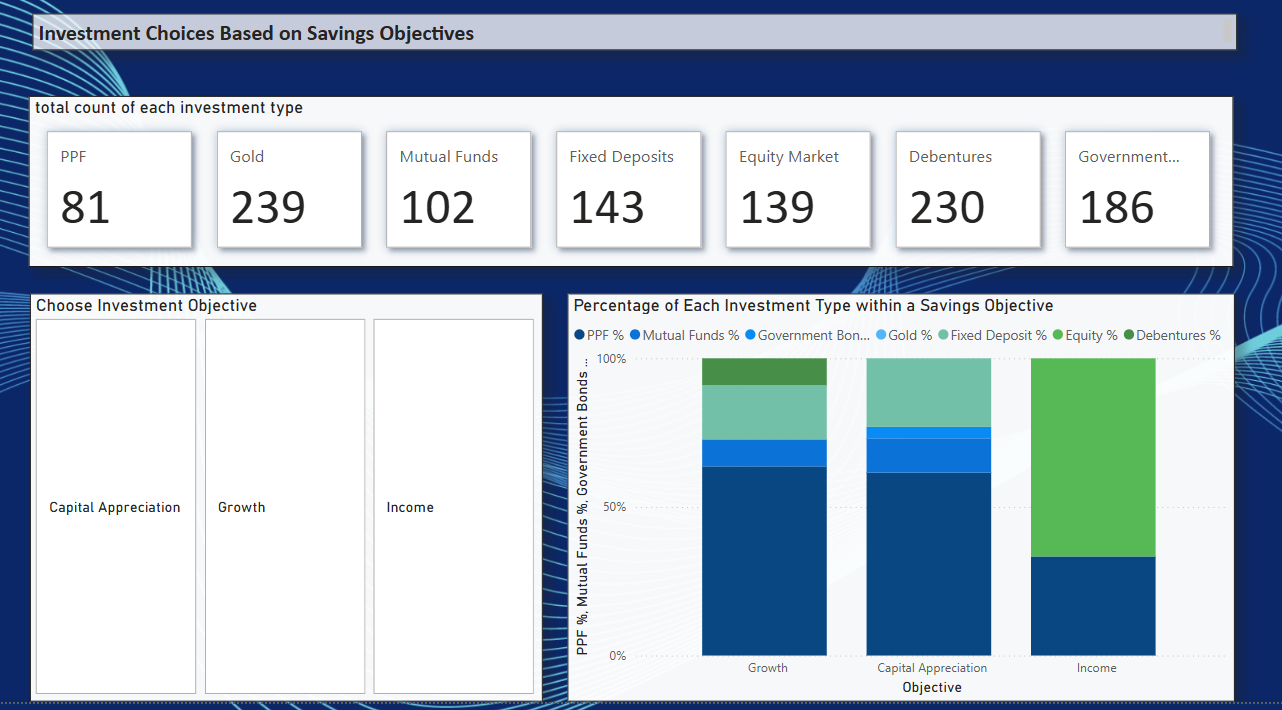

This screenshot's page, from the dashboard's own definition file:
{"tool":"powerbi","page":{"name":"Task 3","canvas":[1280,720],"ordinal":2},"visuals":[{"type":"advancedSlicerVisual","title":"Choose Investment Objective","fields":{"Values":["Data_set 2.Objective"]},"box":[48.5,320.7,501.7,399.1],"z":0},{"type":"hundredPercentStackedColumnChart","title":"Percentage of Each Investment Type within a Savings Objective","fields":{"Category":["Data_set 2.Objective"],"Y":["Data_set 2.PPF_Investment_Percentage_By_Objective","Data_set 2.MutualFunds_Investment_Percentage_By_Objective","Data_set 2.Government_Investment_Percentage_By_Objective","Data_set 2.Gold_Investment_Percentage_By_Objective","Data_set 2.FD_Investment_Percentage_By_Objective","Data_set 2.Equity_Investment_Percentage_By_Objective","Data_set 2.Debentures_Investment_Percentage_By_Objective"]},"box":[574.4,320.7,652.8,399.1],"z":1000},{"type":"cardVisual","title":"total count of each investment type","fields":{"Data":["Sum(Data_set 2.PPF)","Sum(Data_set 2.Gold)","Sum(Data_set 2.Mutual_Funds)","Sum(Data_set 2.Fixed_Deposits)","Sum(Data_set 2.Equity_Market)","Sum(Data_set 2.Debentures)","Sum(Data_set 2.Government_Bonds)"]},"box":[48,127.6,1178.7,167.4],"z":2000},{"type":"textbox","box":[50.8,46.7,1178.7,35.7],"z":3000}]}

Visuals, with their boxes in screenshot pixels (x1, y1, x2, y2), scaled from the page's 1280x720 canvas onto the 1282x710 screenshot:
"Choose Investment Objective" advancedSlicerVisual: x1=49 y1=316 x2=551 y2=709
"Percentage of Each Investment Type within a Savings Objective" hundredPercentStackedColumnChart: x1=575 y1=316 x2=1229 y2=709
"total count of each investment type" cardVisual: x1=48 y1=126 x2=1229 y2=291
textbox: x1=51 y1=46 x2=1231 y2=81
